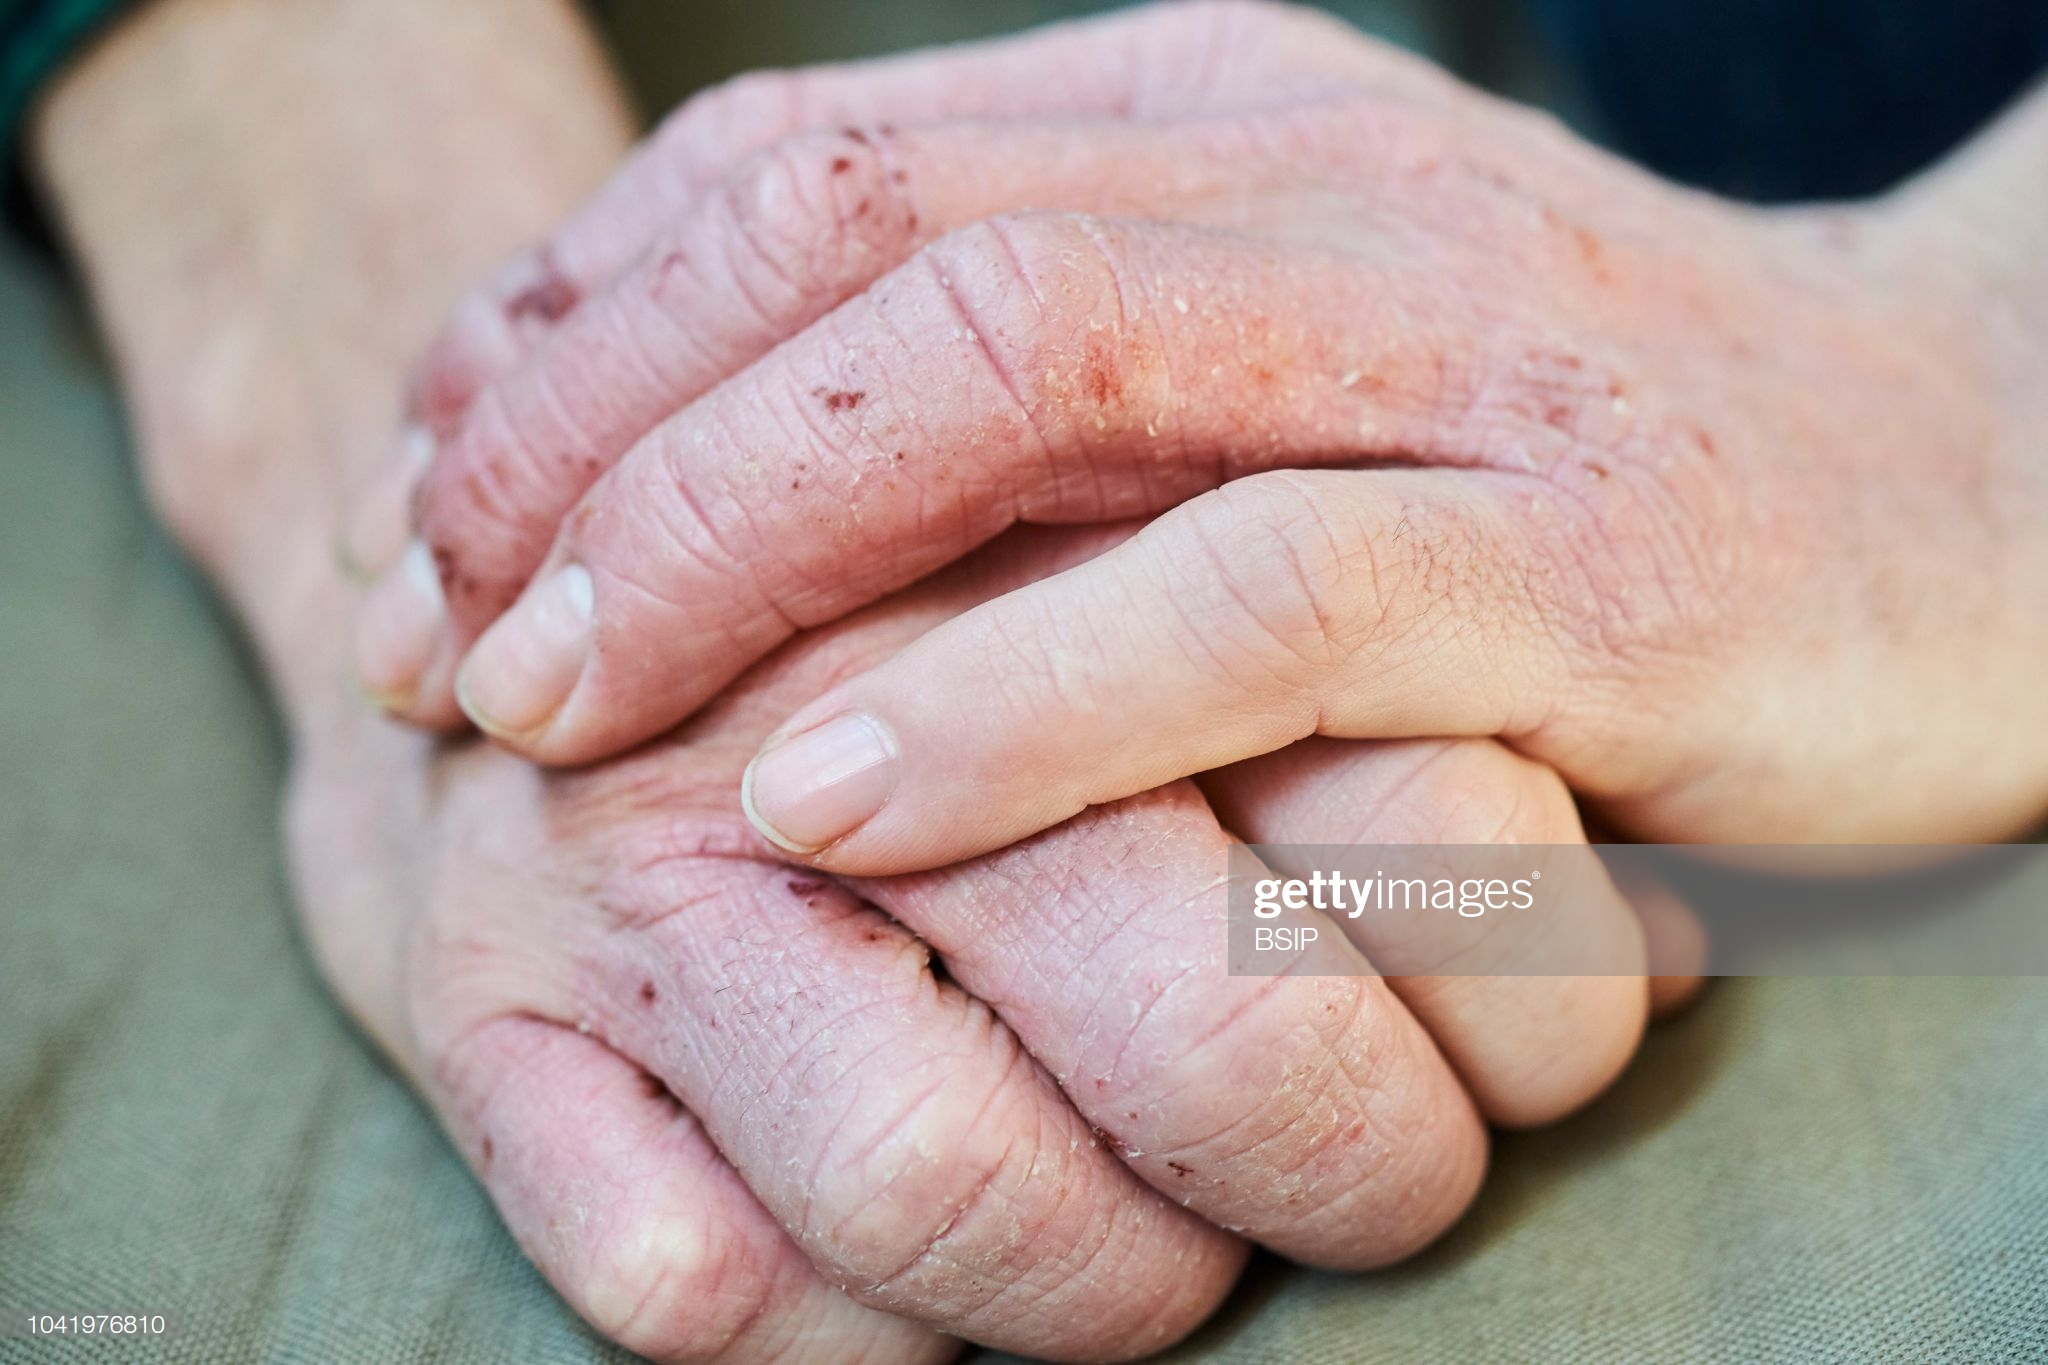Eczema: (393, 67, 1669, 714)
